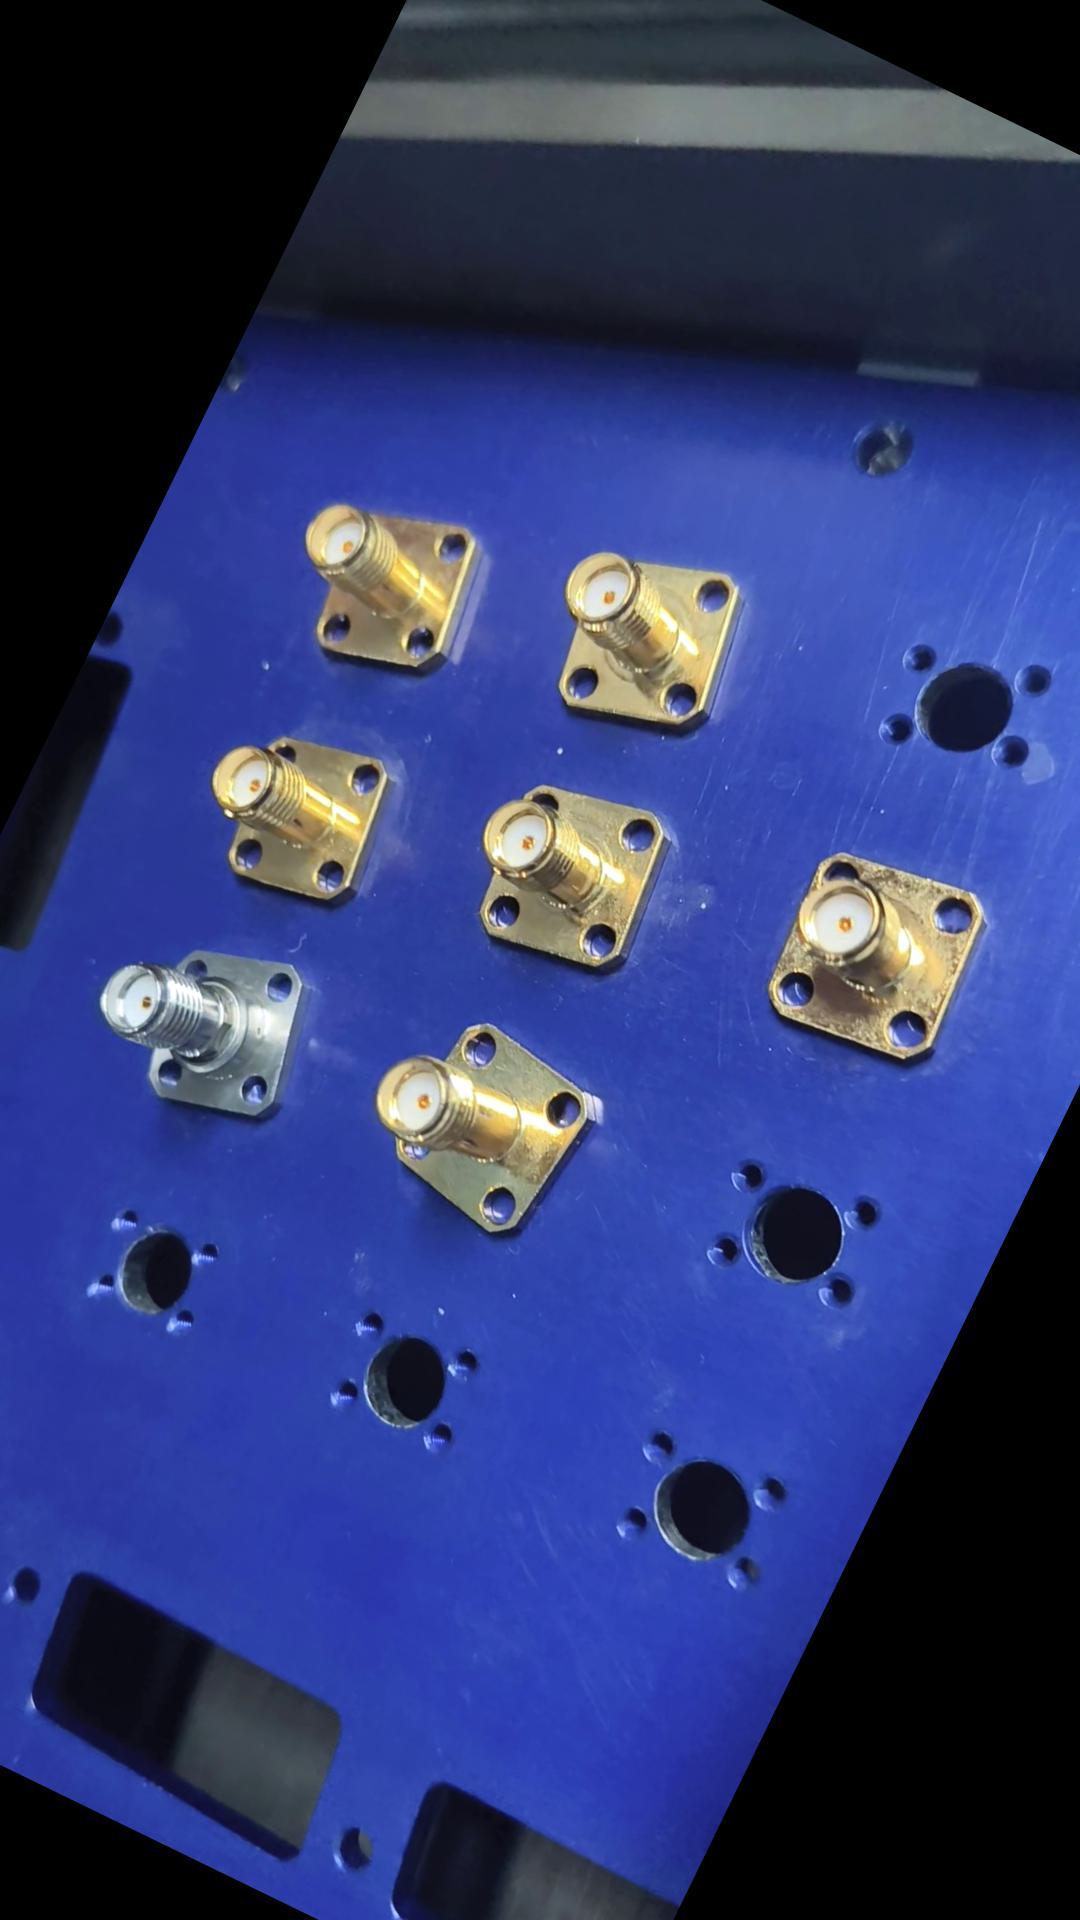SMA: (338, 986, 622, 1265), (520, 512, 781, 771), (752, 824, 1010, 1085), (442, 746, 698, 1000), (76, 897, 339, 1142), (262, 468, 508, 709), (179, 699, 419, 926)
